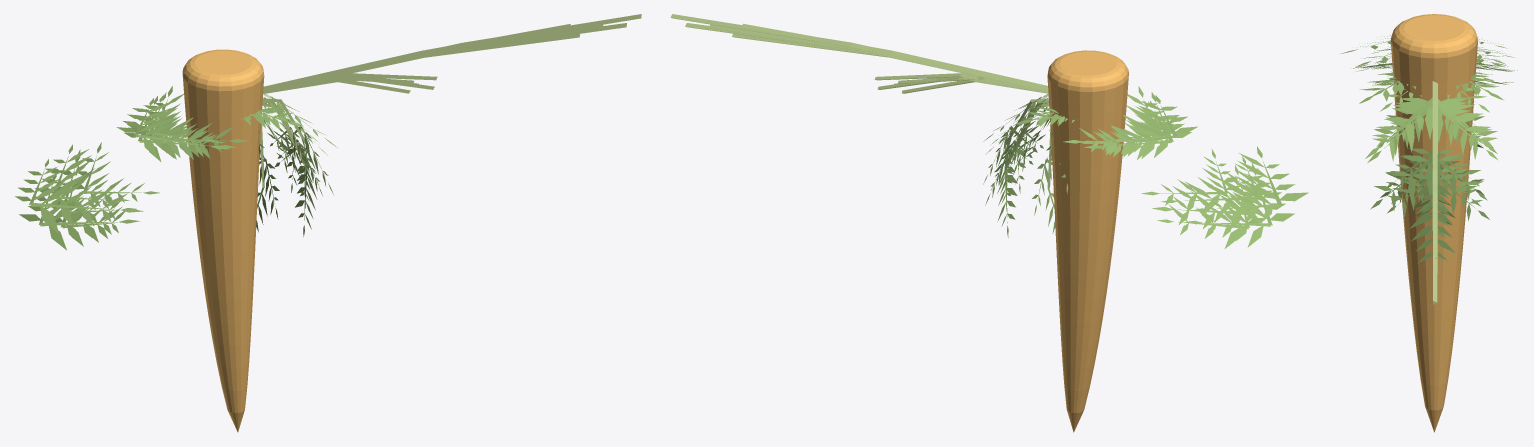
File: carrot_harvest_v05.articulated.glb
3 views of the same model, side by side, from view 1: azimuth 30°, elevation 25°; view 2: azimuth 150°, elevation 25°; view 3: azimuth 270°, elevation 25° (orthographic). The views are drawn at different scales.
Parts seen in each view (by area): view 1: root, leaf01_link2, leaf02_link2, leaf04_link2, leaf00_link2, leaf00_link0, leaf03_link2, leaf05_link2, leaf02_link0, leaf02_link1, leaf03_link0; view 2: root, leaf01_link2, leaf02_link2, leaf04_link2, leaf00_link2, leaf03_link2, leaf05_link0, leaf05_link2, leaf00_link0, leaf01_link0, leaf03_link0; view 3: root, leaf01_link2, leaf02_link2, leaf04_link2, leaf00_link2, leaf03_link2, leaf05_link0, leaf05_link2, leaf00_link0.
Boxes of the visible parts, left/top/right/bottom form: root: left=182, top=49, right=264, bottom=432; leaf01_link2: left=15, top=94, right=337, bottom=233; leaf02_link2: left=19, top=96, right=327, bottom=250; leaf04_link2: left=35, top=94, right=317, bottom=212; leaf00_link2: left=54, top=86, right=293, bottom=246; leaf00_link0: left=263, top=14, right=641, bottom=91; leaf03_link2: left=48, top=92, right=318, bottom=225; leaf05_link2: left=72, top=107, right=290, bottom=208; leaf02_link0: left=264, top=23, right=626, bottom=92; leaf02_link1: left=263, top=75, right=434, bottom=93; leaf03_link0: left=272, top=34, right=579, bottom=90; root: left=1047, top=50, right=1128, bottom=432; leaf01_link2: left=983, top=94, right=1308, bottom=223; leaf02_link2: left=985, top=92, right=1294, bottom=247; leaf04_link2: left=992, top=98, right=1272, bottom=217; leaf00_link2: left=1015, top=86, right=1262, bottom=248; leaf03_link2: left=990, top=101, right=1259, bottom=228; leaf05_link0: left=741, top=23, right=1048, bottom=90; leaf05_link2: left=1019, top=101, right=1239, bottom=207; leaf00_link0: left=670, top=14, right=1047, bottom=90; leaf01_link0: left=709, top=24, right=1046, bottom=90; leaf03_link0: left=732, top=33, right=1046, bottom=91; root: left=1390, top=14, right=1477, bottom=432; leaf01_link2: left=1341, top=35, right=1506, bottom=222; leaf02_link2: left=1353, top=57, right=1508, bottom=269; leaf04_link2: left=1372, top=46, right=1513, bottom=205; leaf00_link2: left=1356, top=63, right=1513, bottom=225; leaf03_link2: left=1371, top=58, right=1517, bottom=237; leaf05_link0: left=1432, top=81, right=1437, bottom=258; leaf05_link2: left=1372, top=61, right=1503, bottom=148; leaf00_link0: left=1432, top=139, right=1437, bottom=304.
Size of the model in its own units: 0.3103 by 0.1811 by 0.0748.
1 material, 1 textured.
